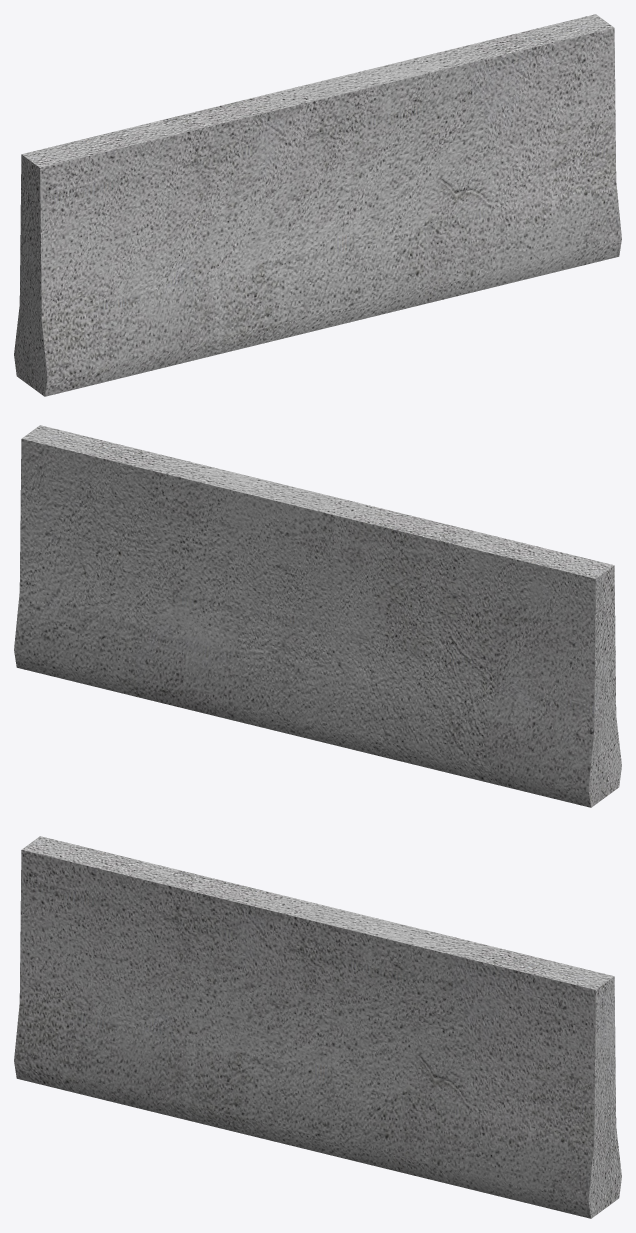
The model's file is sb_concrete_block.fbx.
3 views of the same model, one above another, from view 1: azimuth 30°, elevation 25°; view 2: azimuth 150°, elevation 25°; view 3: azimuth 330°, elevation 25° (orthographic).
Visible parts, largest first — view 1: RoadWorkConcreeteBlocker; view 2: RoadWorkConcreeteBlocker; view 3: RoadWorkConcreeteBlocker.
Part boxes in pixels (x1=…): RoadWorkConcreeteBlocker: x1=14, y1=14, x2=621, y2=396; RoadWorkConcreeteBlocker: x1=14, y1=425, x2=621, y2=807; RoadWorkConcreeteBlocker: x1=14, y1=836, x2=621, y2=1218.
Size of the model in its own units: 4 by 1.5 by 0.404.
1 material, 1 textured.
